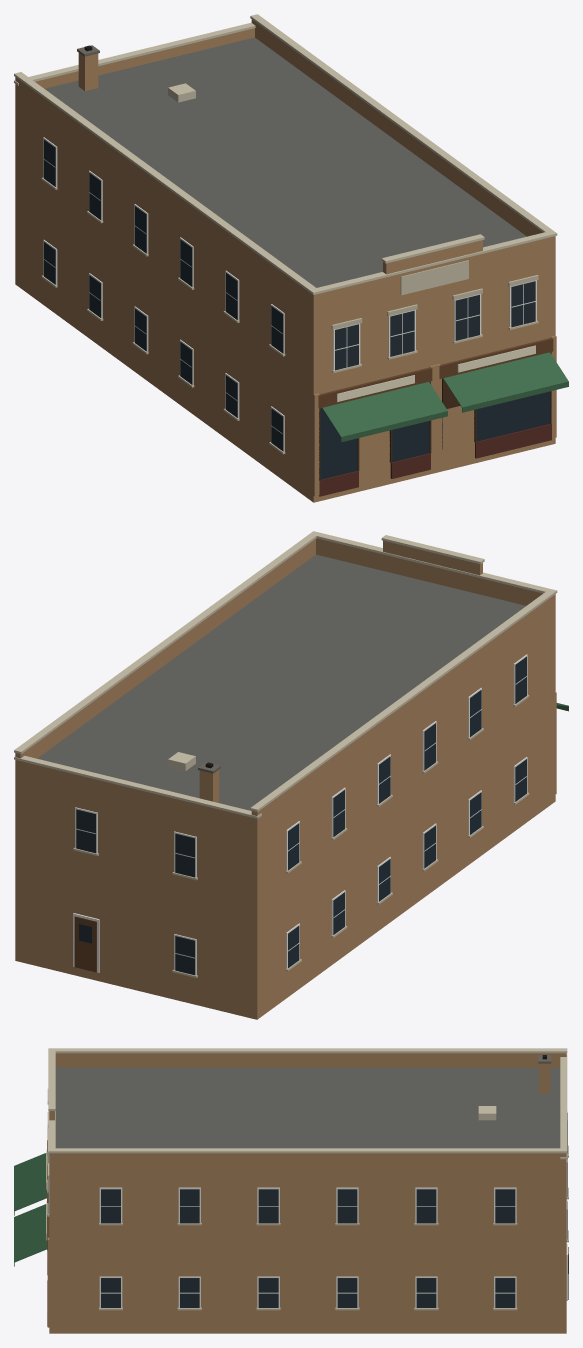
File: cook-building-1913.glb
The picture shows the model from 3 angles, top to bottom: view 1: azimuth 30°, elevation 25°; view 2: azimuth 150°, elevation 25°; view 3: azimuth 270°, elevation 25°; orthographic projection. The views are drawn at different scales.
Visible parts, largest first — view 1: kit-cook-building-1913; view 2: kit-cook-building-1913; view 3: kit-cook-building-1913.
Boxes of the visible parts, bbox=[...] form: kit-cook-building-1913: bbox=[14, 14, 568, 502]; kit-cook-building-1913: bbox=[14, 531, 568, 1019]; kit-cook-building-1913: bbox=[14, 1048, 568, 1333].
Bounding box in the file's own units: 11.2 × 10.07 × 25.21.
